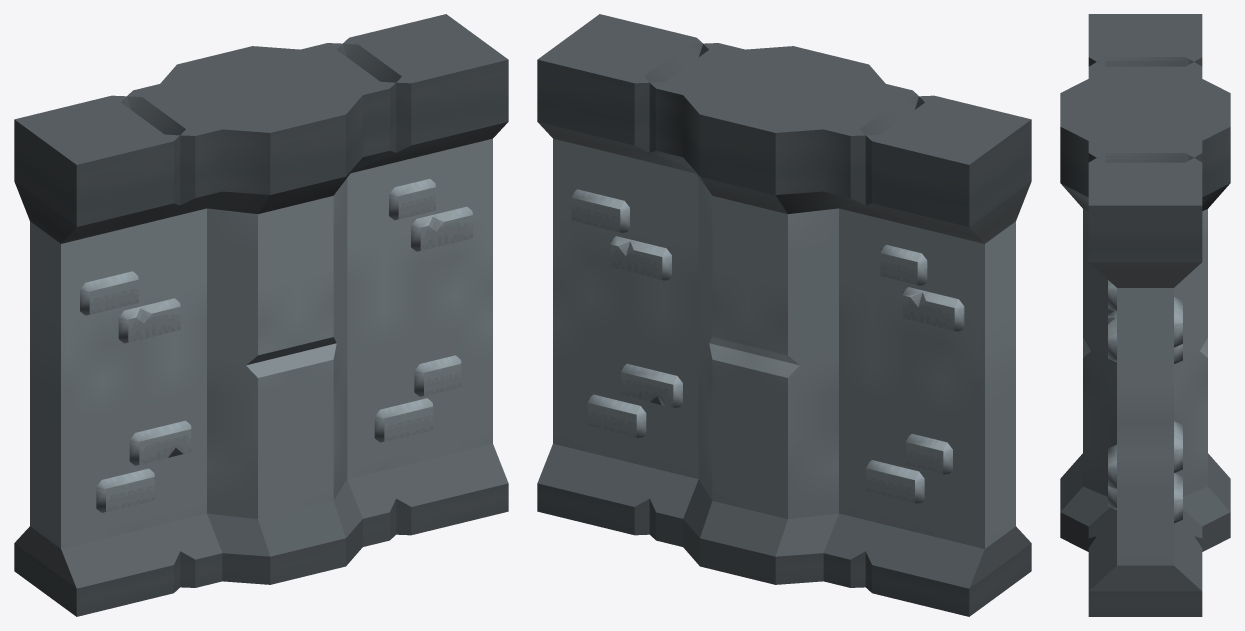
Rendered from wall_pillar.glb.
The picture shows the model from 3 angles, left to right: view 1: azimuth 30°, elevation 25°; view 2: azimuth 150°, elevation 25°; view 3: azimuth 270°, elevation 25°; orthographic projection. The views are drawn at different scales.
Parts seen in each view (by area): view 1: wall_pillar; view 2: wall_pillar; view 3: wall_pillar.
Boxes of the visible parts, x1,y1,x2,y2 form: wall_pillar: [14, 14, 508, 616]; wall_pillar: [537, 14, 1031, 616]; wall_pillar: [1060, 14, 1230, 616].
Bounding box in the file's own units: 4 × 4 × 1.5.
1 material, 1 textured.
